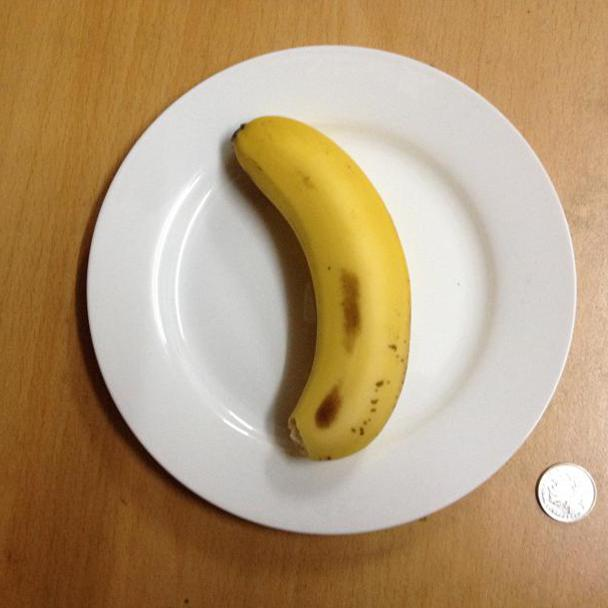banana: (225, 112, 452, 466)
